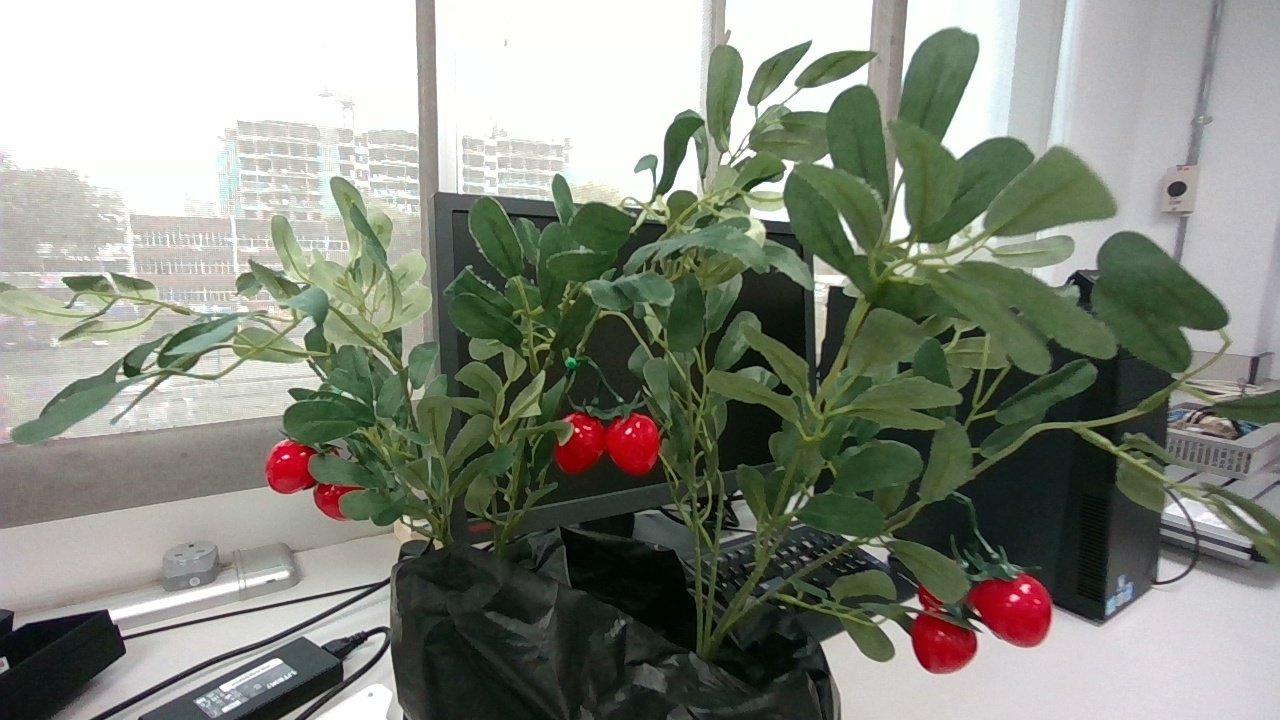peduncle: (955, 493, 976, 527), (585, 357, 603, 377)
strawberry: (971, 573, 1054, 648), (912, 614, 979, 674), (606, 412, 660, 475), (554, 411, 606, 474), (264, 438, 315, 494), (313, 484, 362, 520)
